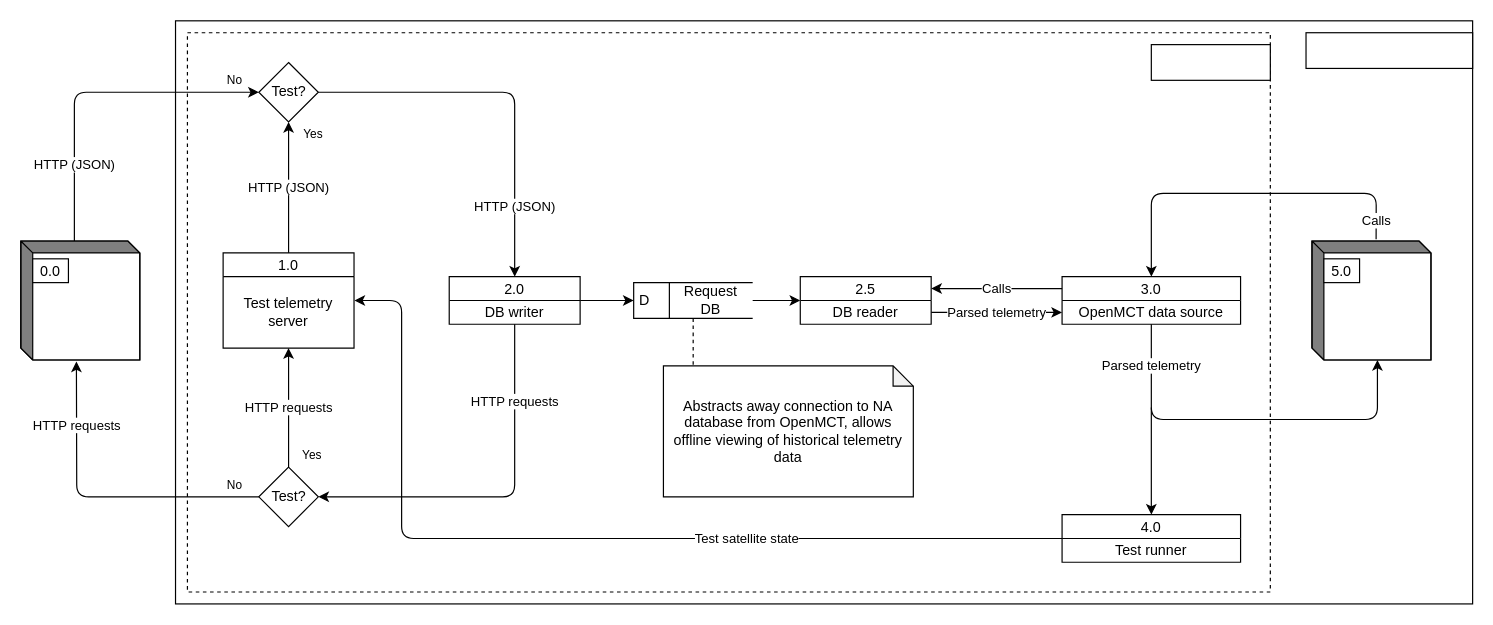
Image size: 1493x625. Some labels were removed from this diagram. The centre of each missing label's shape, as x and y in pixels:
"Express.js web server" belongs at (1389,50).
"MCT Depot" belongs at (1210,61).
"NA server" belongs at (80,300).
"OpenMCT" belongs at (1371,300).
